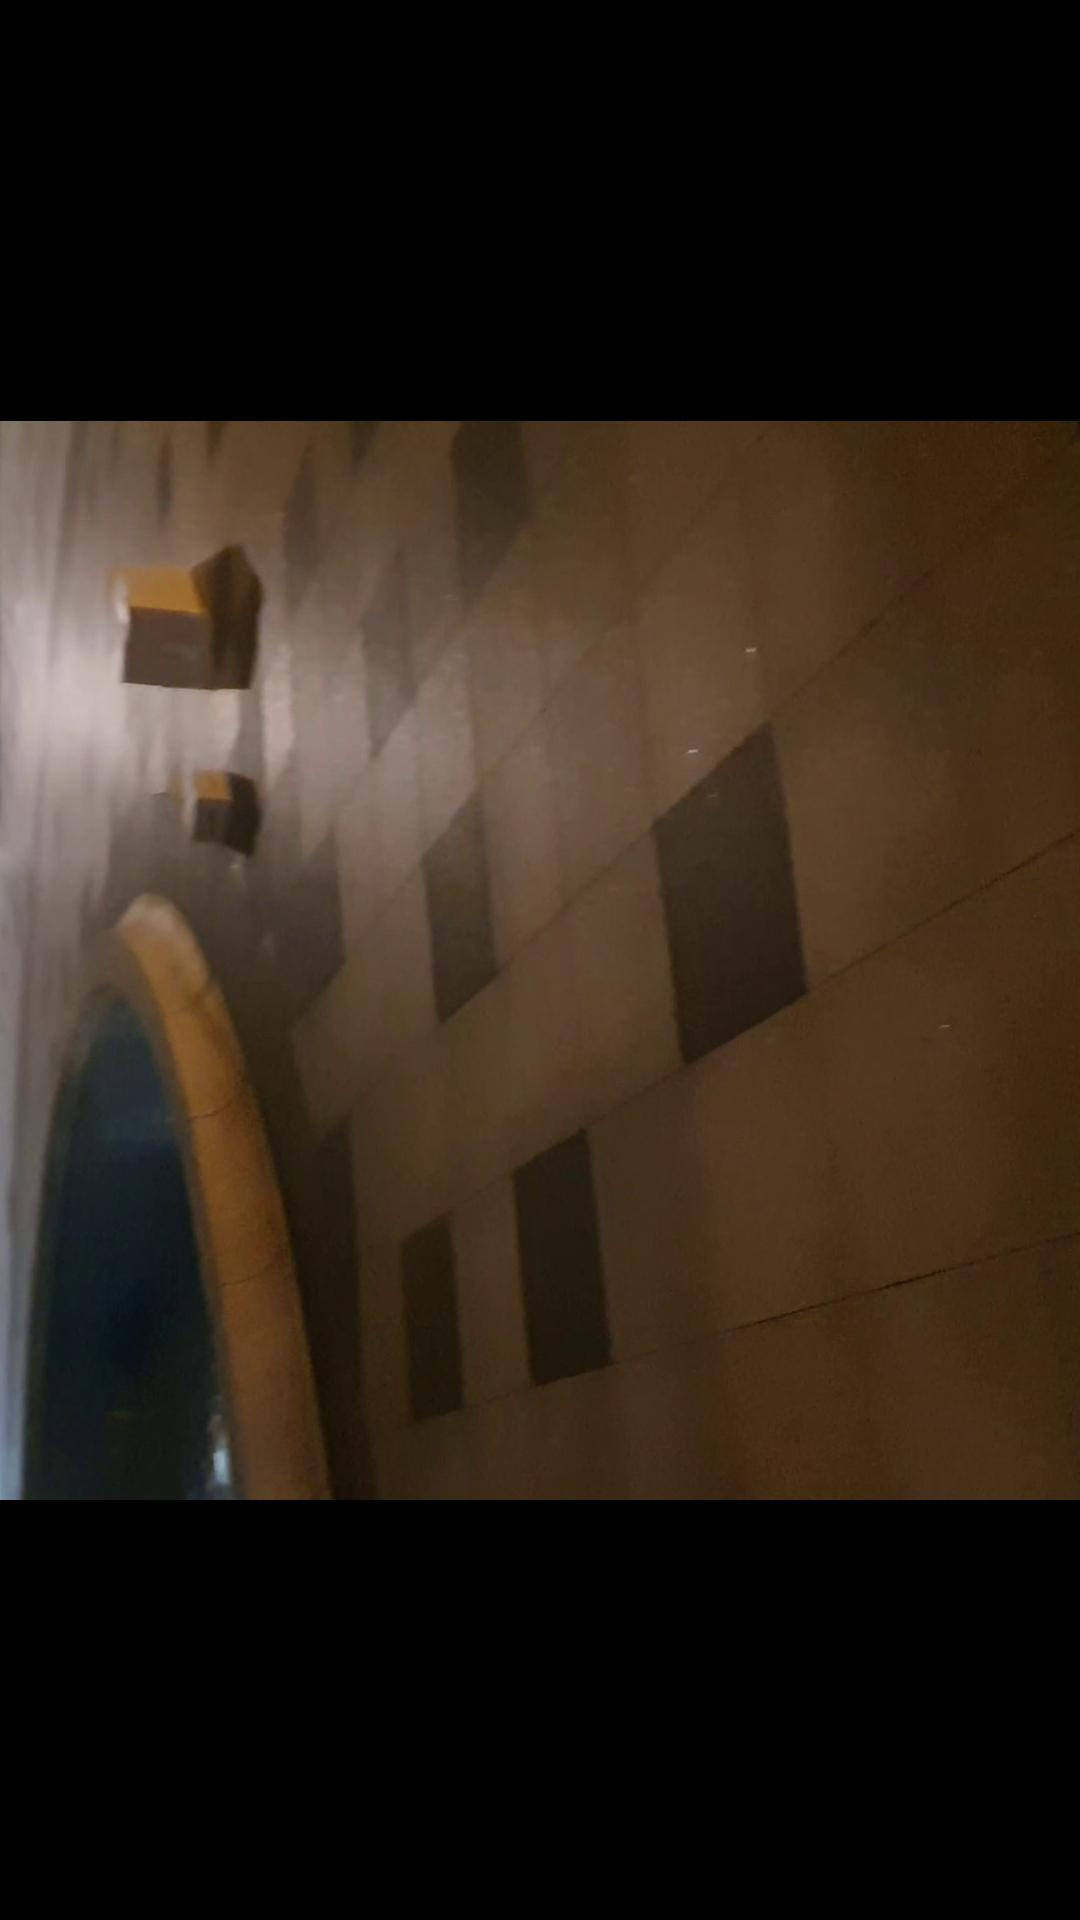Box: (103, 560, 237, 702), (170, 753, 255, 857)
